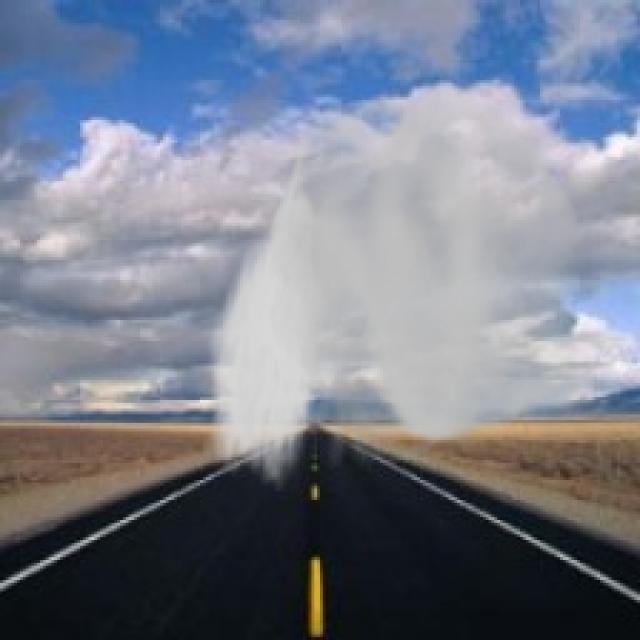Smoke: (202, 71, 598, 492)
